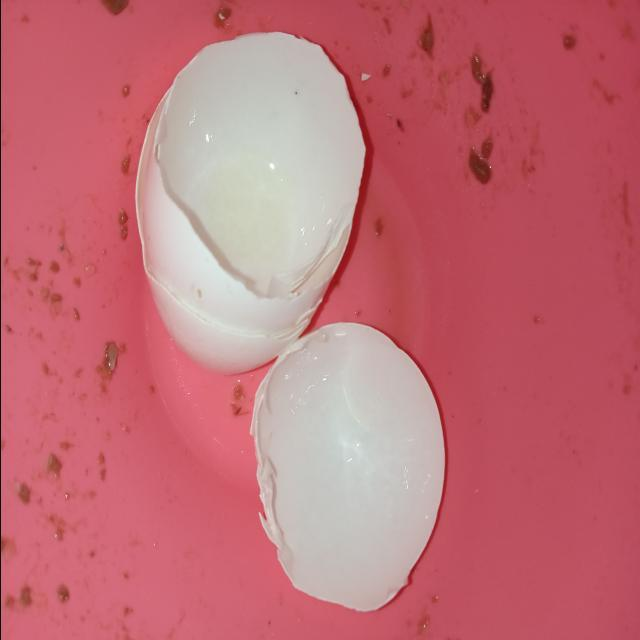egg shell: (133, 30, 364, 378), (250, 323, 447, 610)
